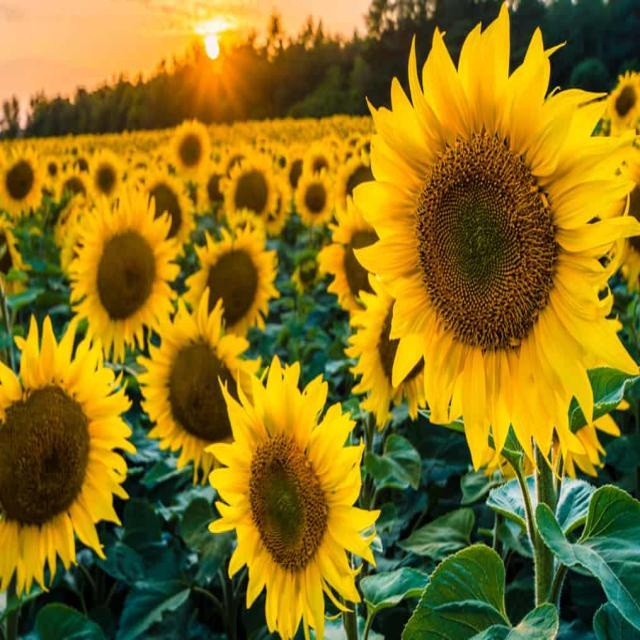sunflower: (350, 1, 640, 478), (204, 354, 381, 638), (0, 312, 135, 597), (136, 287, 268, 486), (66, 186, 181, 362), (472, 393, 630, 478), (344, 273, 426, 430), (182, 220, 280, 337), (594, 134, 640, 293), (317, 194, 377, 312), (224, 154, 280, 236), (143, 172, 195, 256), (0, 140, 42, 218), (334, 149, 375, 225), (167, 118, 211, 186), (0, 216, 32, 298), (604, 69, 640, 137), (62, 212, 98, 280), (294, 166, 334, 226), (258, 172, 294, 236), (86, 146, 125, 199), (54, 162, 94, 208), (198, 163, 228, 210), (282, 151, 310, 198), (222, 150, 254, 190), (303, 142, 334, 174), (41, 154, 64, 192), (68, 148, 94, 180), (292, 260, 319, 290), (273, 146, 290, 172)
